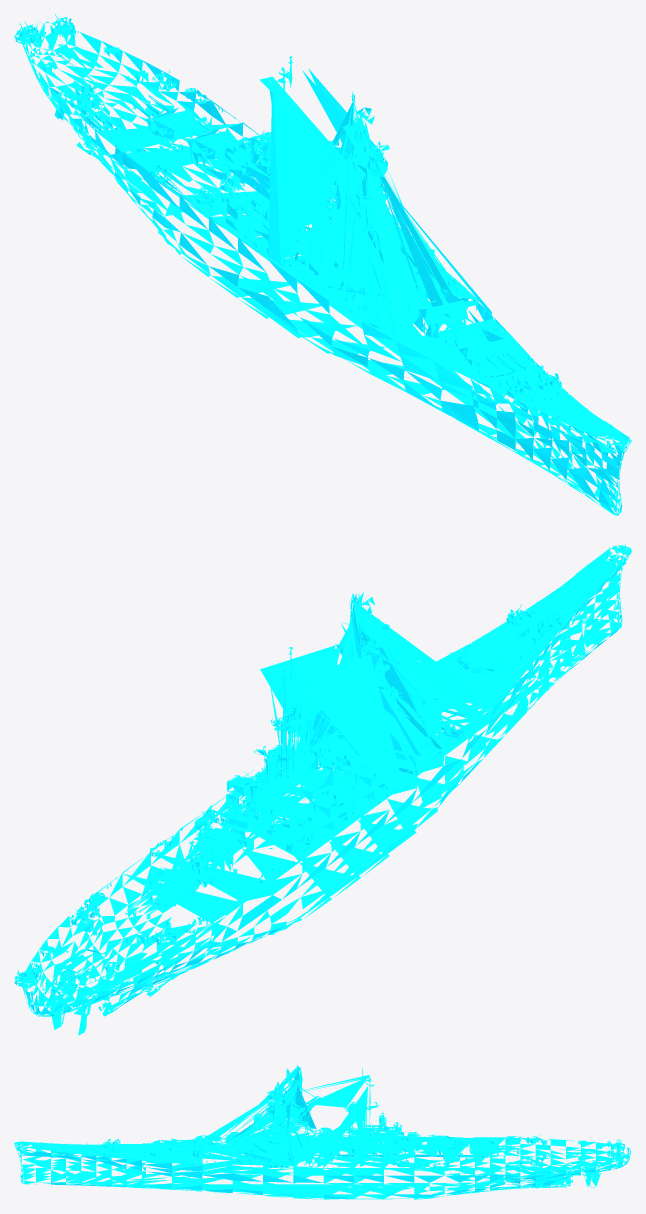
File: Puerto_Rico.glb
3 renders of one model, top to bottom at view 1: azimuth 30°, elevation 25°; view 2: azimuth 150°, elevation 25°; view 3: azimuth 270°, elevation 25°, orthographic. The views are drawn at different scales.
Size of the model in its own units: 2.12 by 3.76 by 17.62.
